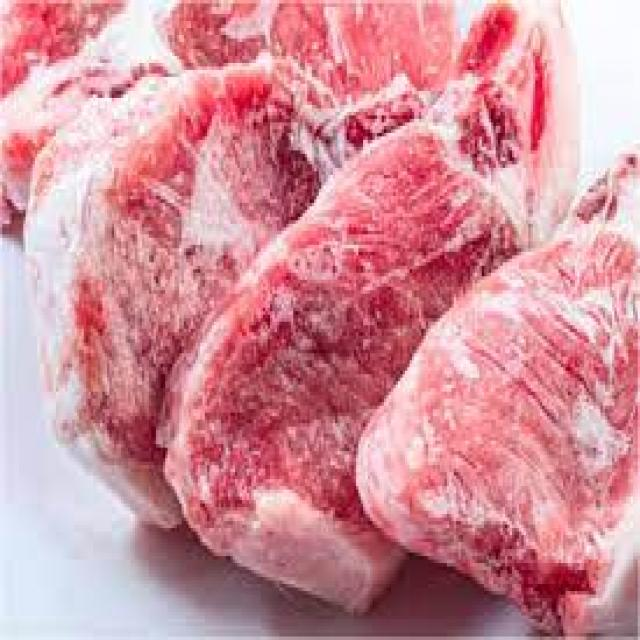pork: (161, 0, 581, 611), (26, 65, 455, 528), (358, 157, 640, 635)
